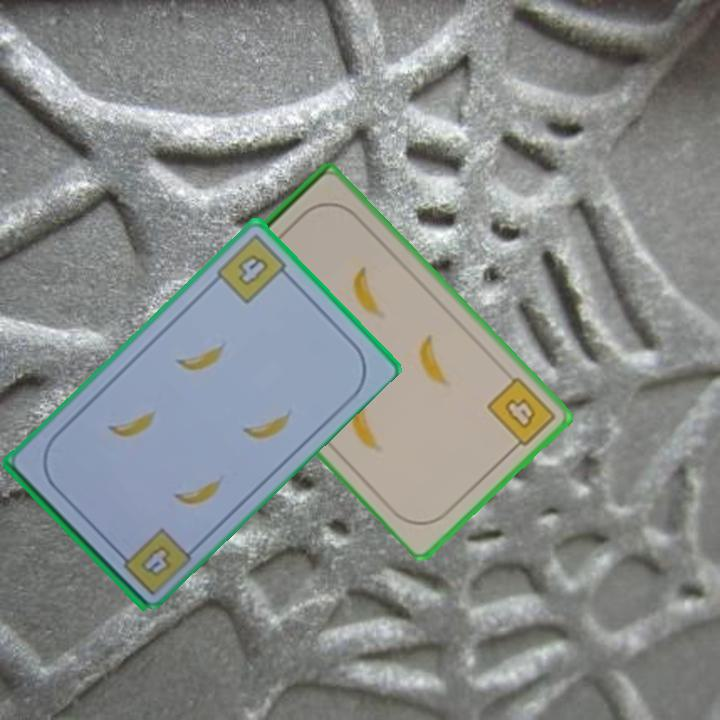4b: (212, 230, 295, 307), (483, 373, 559, 455), (136, 541, 174, 580)
